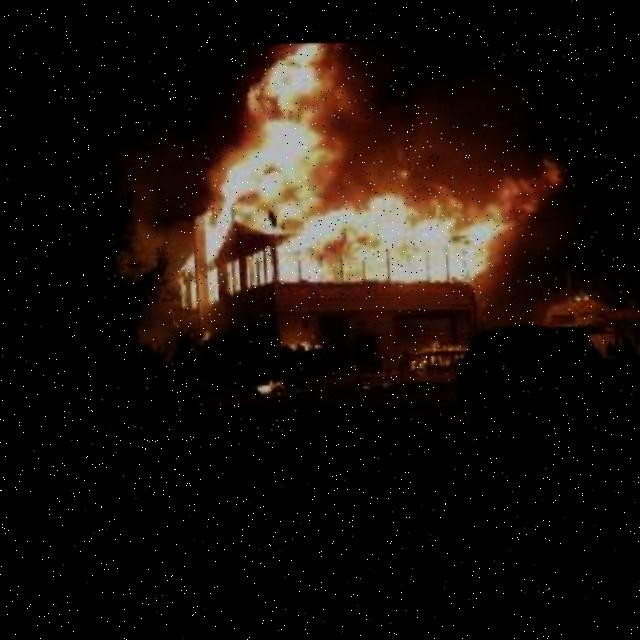fire: (132, 0, 609, 365), (403, 327, 469, 378), (256, 370, 293, 398), (289, 332, 331, 356)
